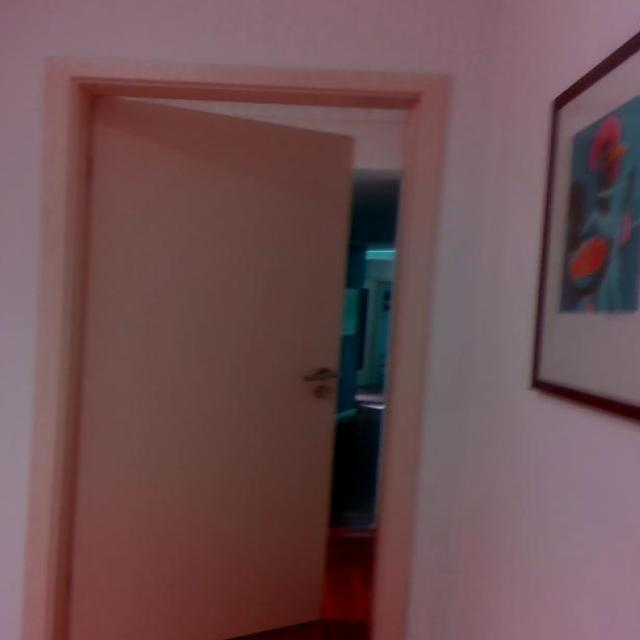door: (63, 92, 355, 639)
